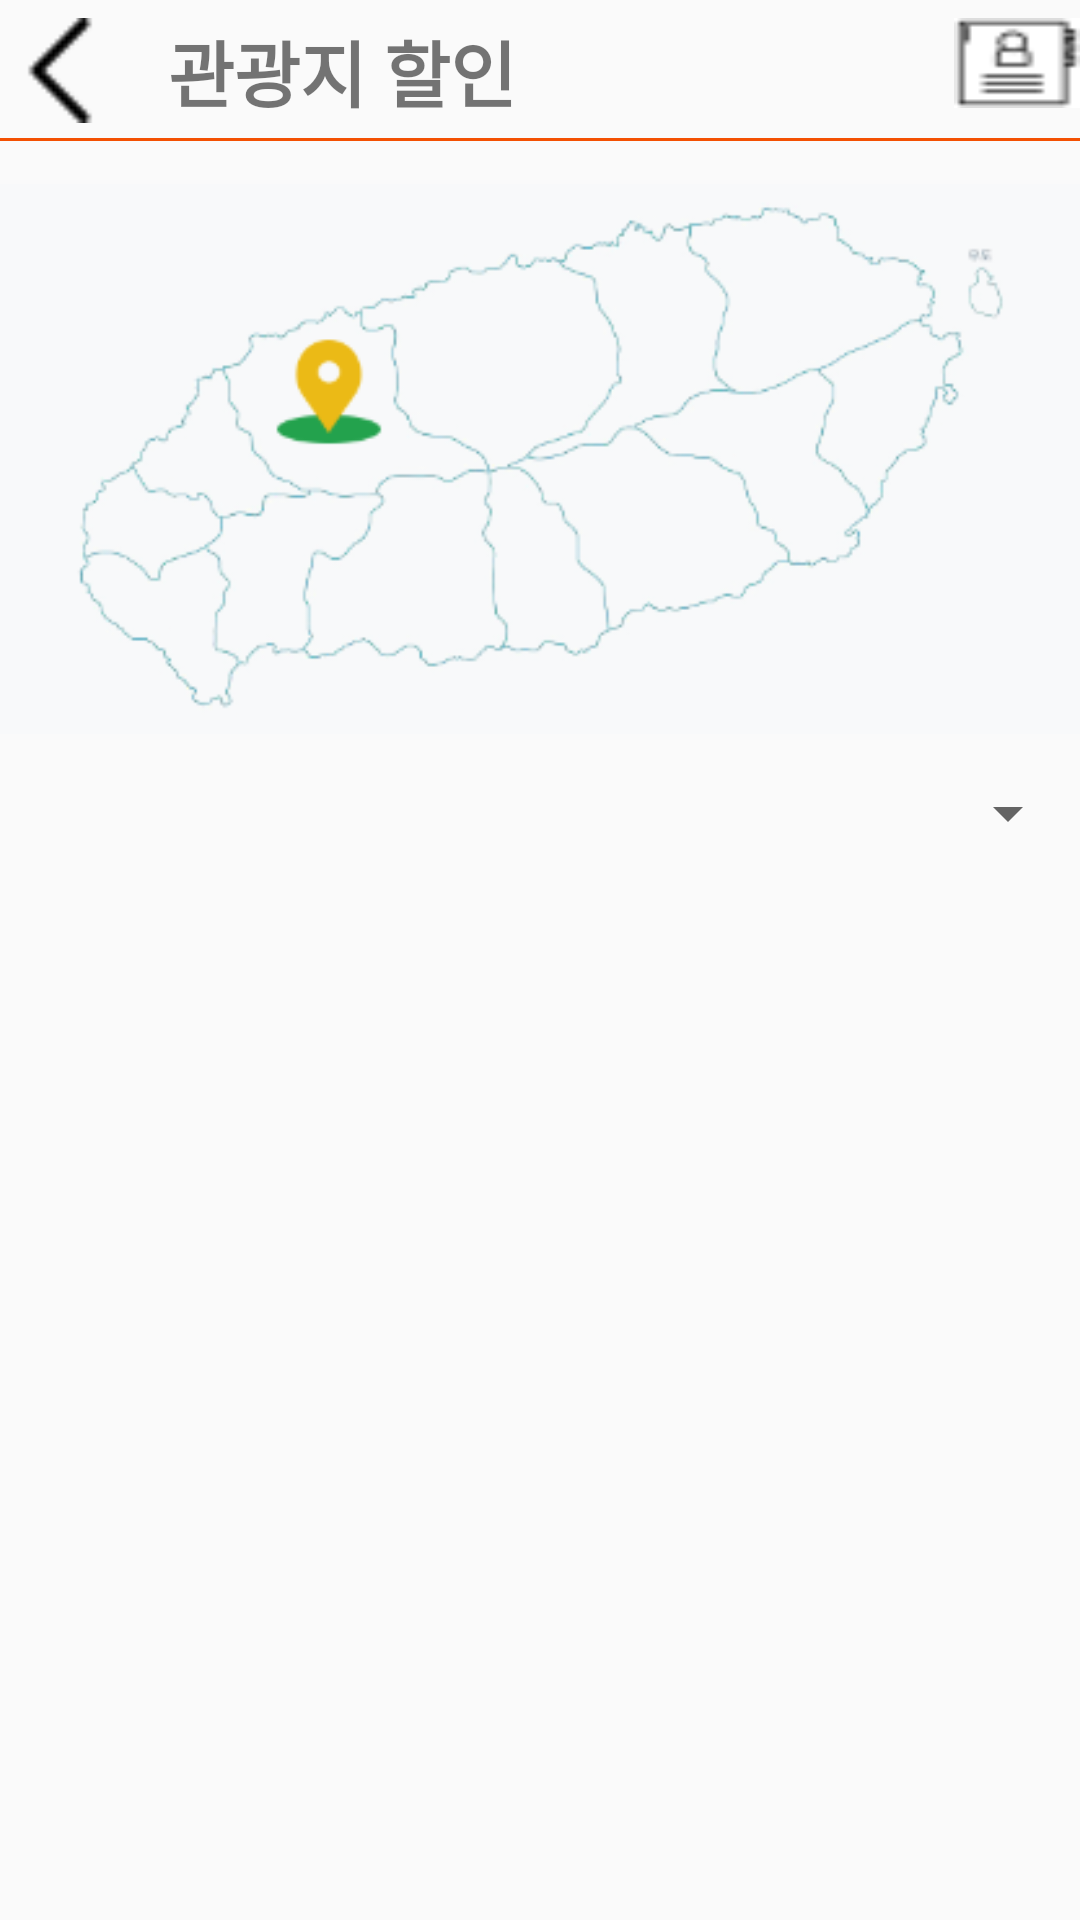

Named icons in this screenshot (1080×1920) and their centers, point (x, y):
addressbook: point (1018, 63)
back: point (60, 70)
